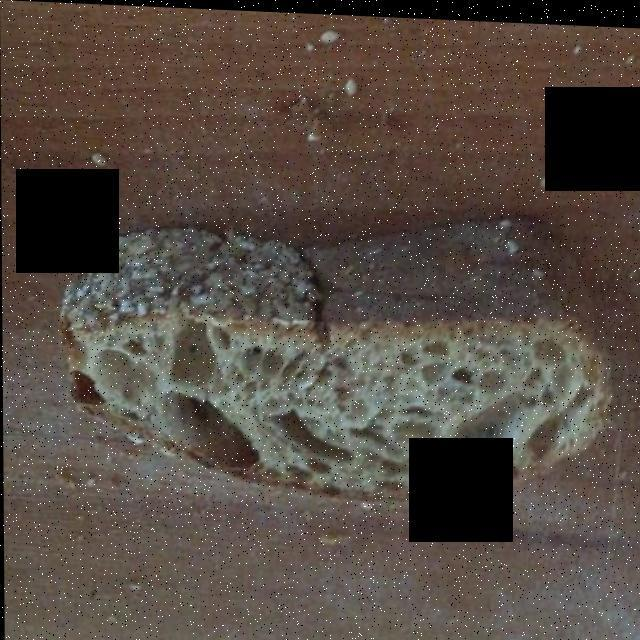bread: (62, 218, 604, 499)
